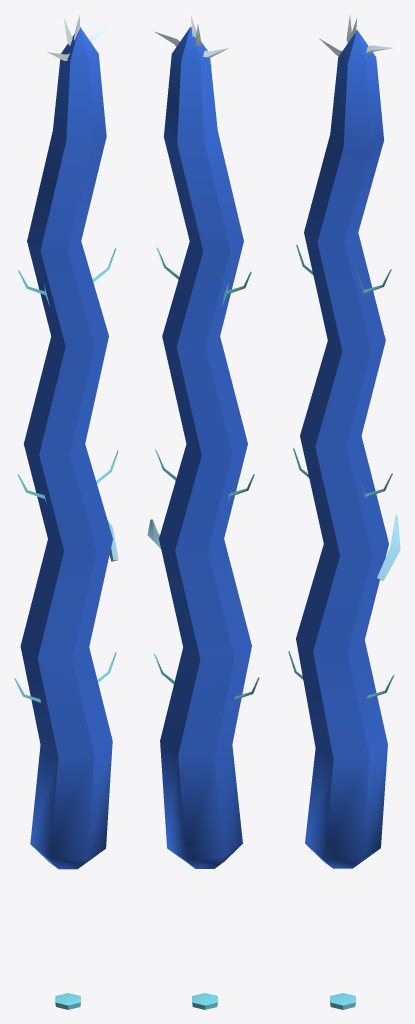
Rendered from rodfx-tempest-a1.glb.
3 renders of one model, left to right at view 1: azimuth 30°, elevation 25°; view 2: azimuth 150°, elevation 25°; view 3: azimuth 330°, elevation 25°, orthographic.
Parts seen in each view (by area): view 1: Aura, Bolts, Spark; view 2: Aura, Bolts, Spark; view 3: Aura, Bolts, Gust, Spark.
Boxes of the visible parts, x1,y1,x2,y2 form: Aura: [20, 27, 112, 869]; Bolts: [14, 248, 118, 1009]; Spark: [47, 15, 110, 60]; Aura: [159, 26, 251, 868]; Bolts: [153, 247, 259, 1009]; Spark: [154, 14, 228, 57]; Aura: [296, 30, 388, 868]; Bolts: [288, 244, 394, 1009]; Gust: [377, 514, 400, 580]; Spark: [319, 15, 393, 56].
Size of the model in its own units: 0.1379 by 1.24 by 0.0864.
